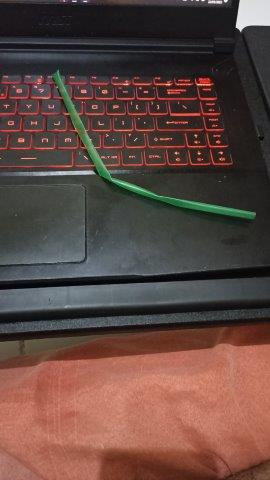sedotan: (54, 72, 254, 219)
